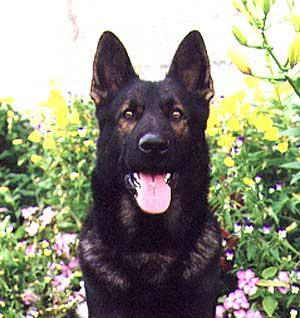German_shepherd: (71, 30, 254, 317)
